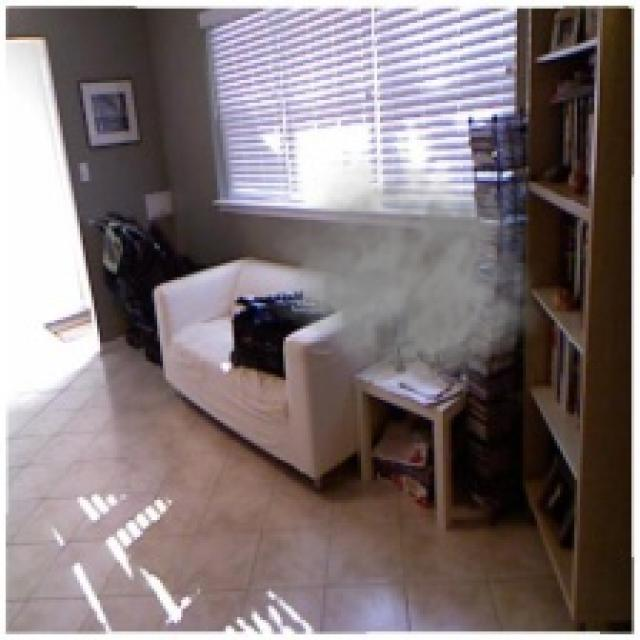Smoke: (266, 152, 543, 392)
